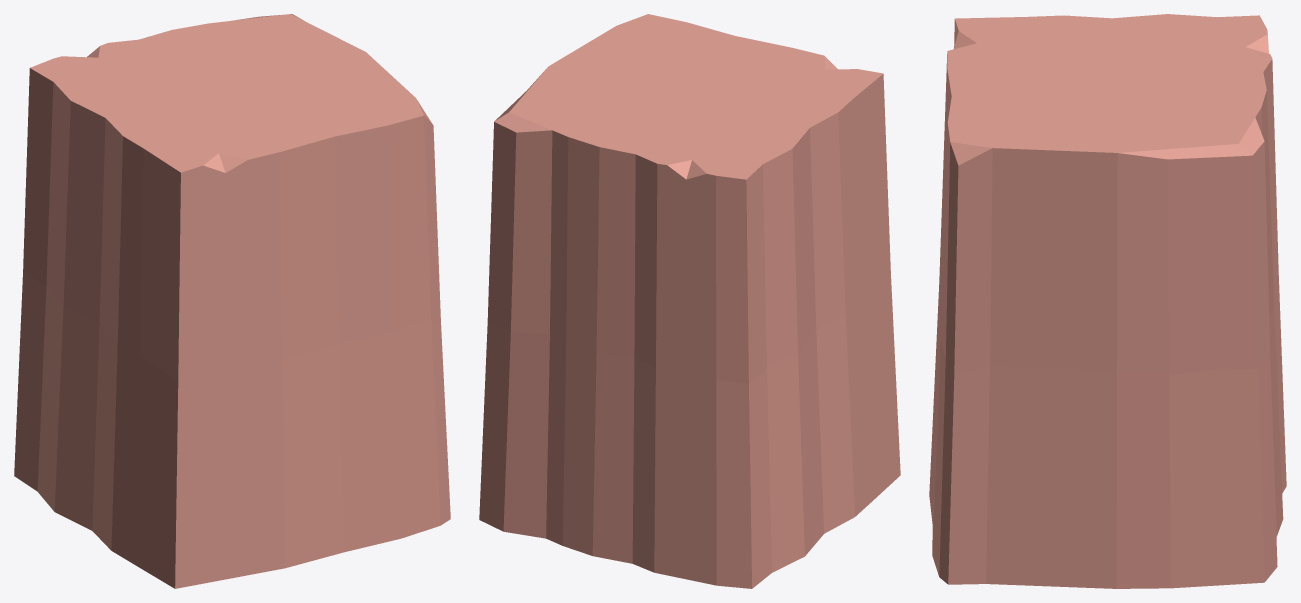
Rendered from SuperGrid_Cube3.fbx.
3 renders of one model, left to right at view 1: azimuth 30°, elevation 25°; view 2: azimuth 150°, elevation 25°; view 3: azimuth 270°, elevation 25°, orthographic. The views are drawn at different scales.
Parts seen in each view (by area): view 1: SuperGrid_Cube3; view 2: SuperGrid_Cube3; view 3: SuperGrid_Cube3.
Part boxes in pixels (x1=…): SuperGrid_Cube3: x1=14, y1=14, x2=450, y2=588; SuperGrid_Cube3: x1=479, y1=14, x2=900, y2=588; SuperGrid_Cube3: x1=929, y1=14, x2=1286, y2=588.
Bounding box in the file's own units: 385 × 504 × 380.
